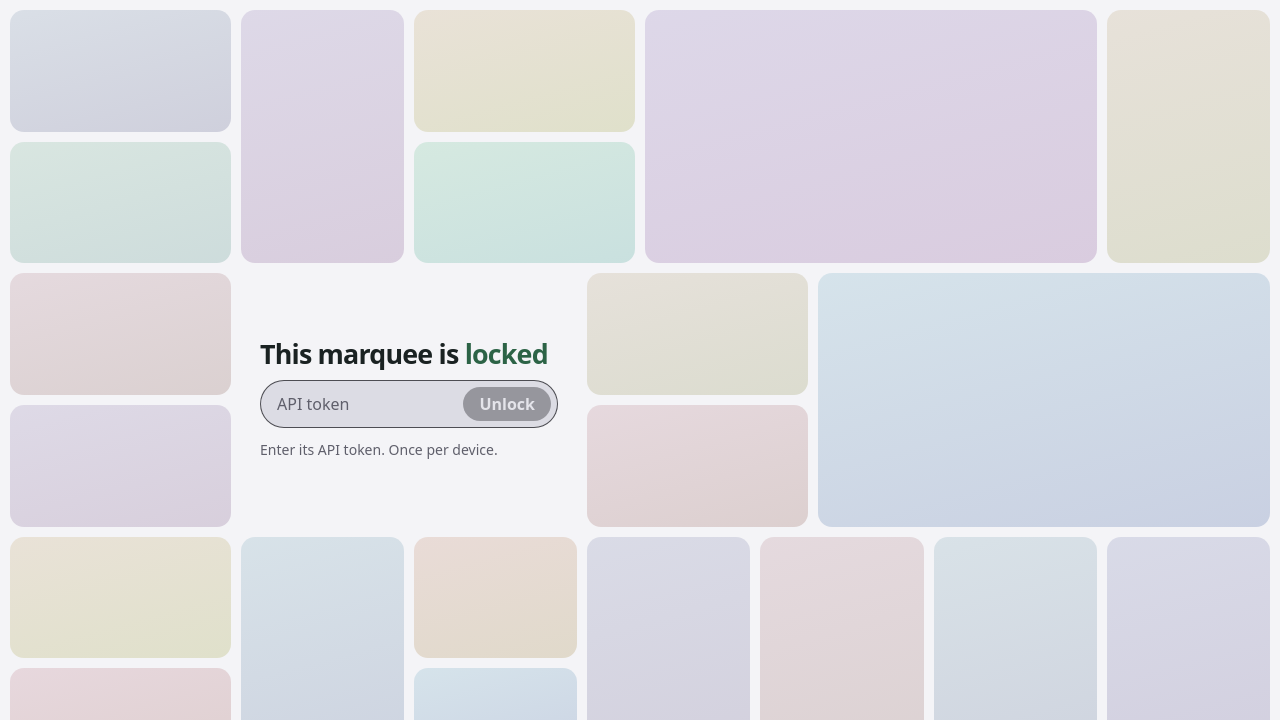
Test: a second click restarts the three seconds
Click the 1st element with class "utile": (120, 71) [5, 5, 236, 137]
Wait 2000 ms
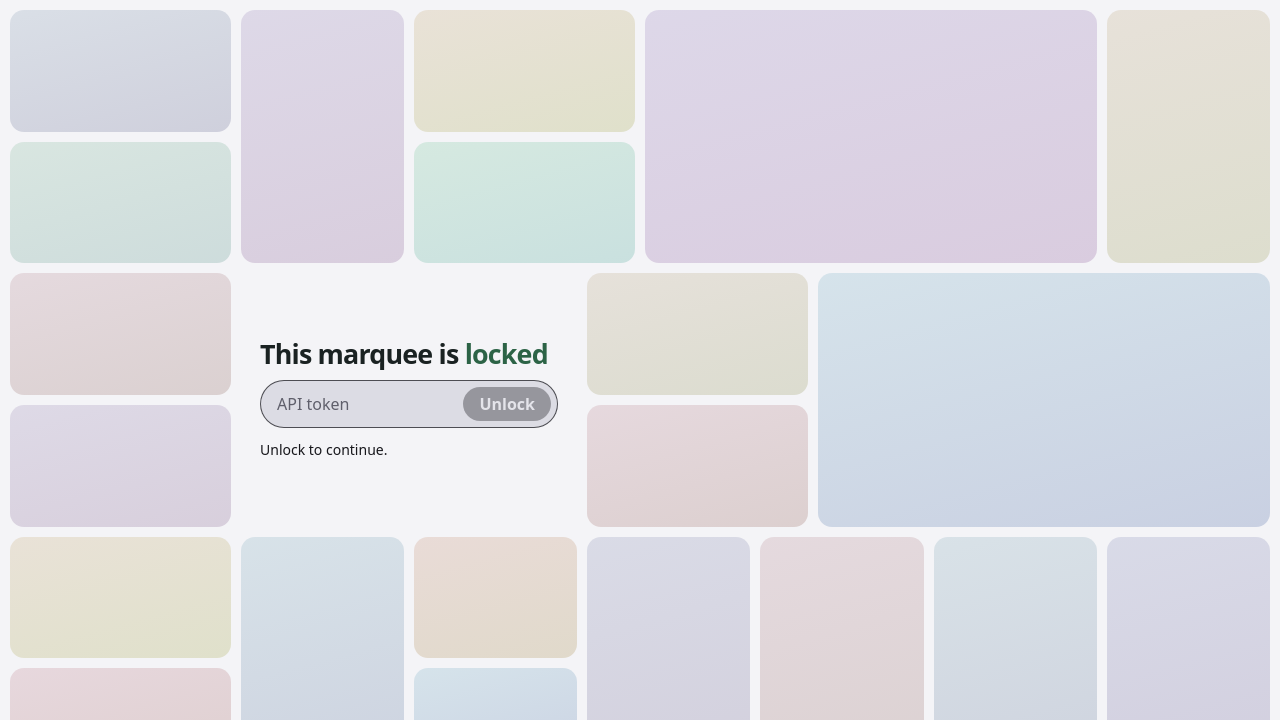
Click the 1st element with class "utile": (120, 71) [5, 5, 236, 137]
Wait 3100 ms
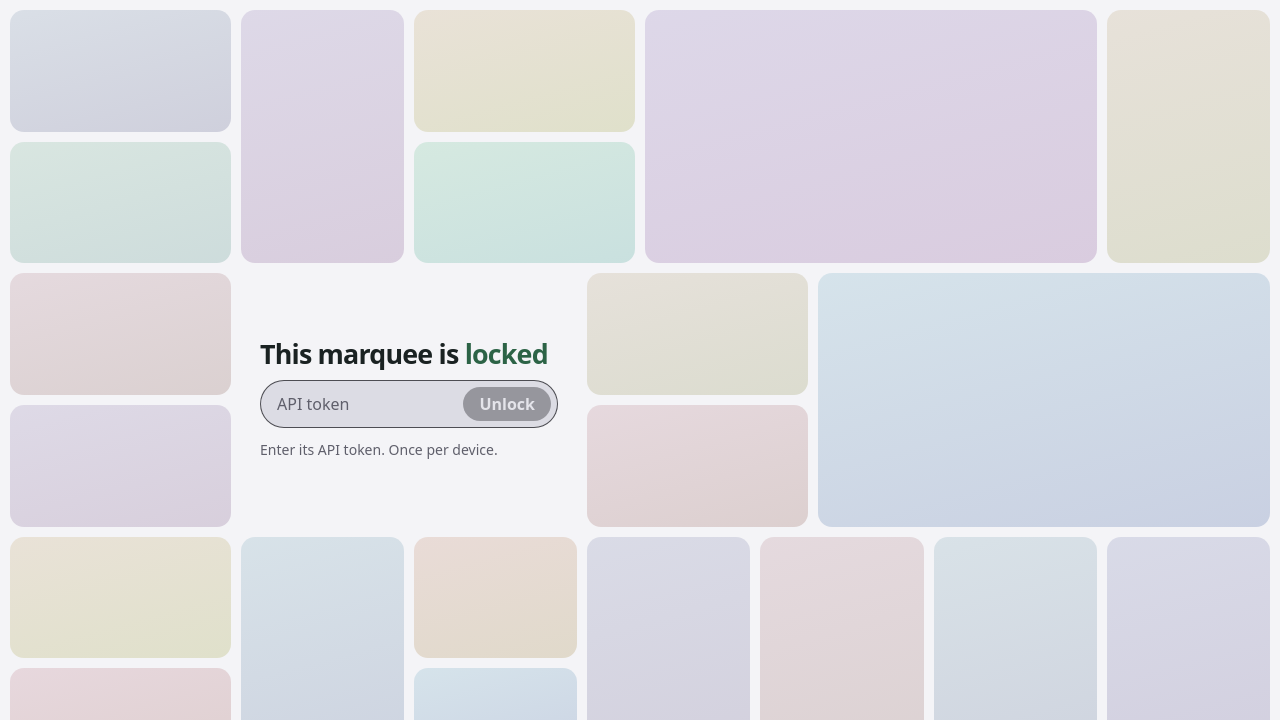
Check: the text "Unlock to continue." is shown, box [260, 440, 498, 459]
Check: the text "Unlock to continue." is gone
